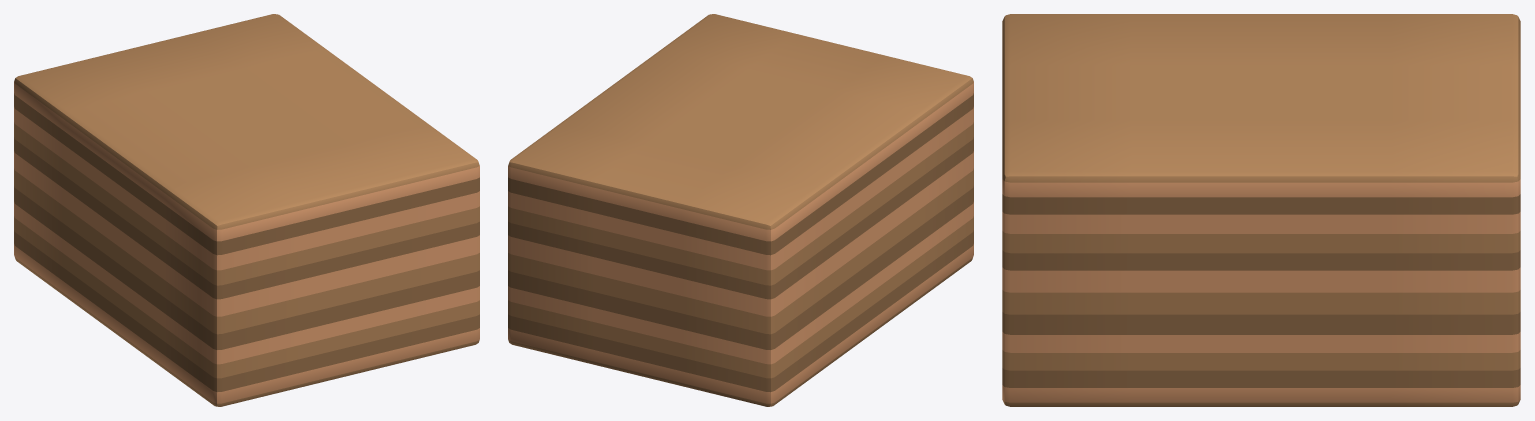
Rendered from Cube_Grass_SideBottom_Tall_044.fbx.
3 renders of one model, left to right at view 1: azimuth 30°, elevation 25°; view 2: azimuth 150°, elevation 25°; view 3: azimuth 270°, elevation 25°, orthographic. The views are drawn at different scales.
Parts seen in each view (by area): view 1: Cube_Grass_SideBottom_Tall.044; view 2: Cube_Grass_SideBottom_Tall.044; view 3: Cube_Grass_SideBottom_Tall.044.
Boxes of the visible parts, box(x1,y1,x2,y2) form: Cube_Grass_SideBottom_Tall.044: box(14, 14, 479, 406); Cube_Grass_SideBottom_Tall.044: box(508, 14, 973, 406); Cube_Grass_SideBottom_Tall.044: box(1002, 14, 1520, 406).
Size of the model in its own units: 600 by 400 by 800.
